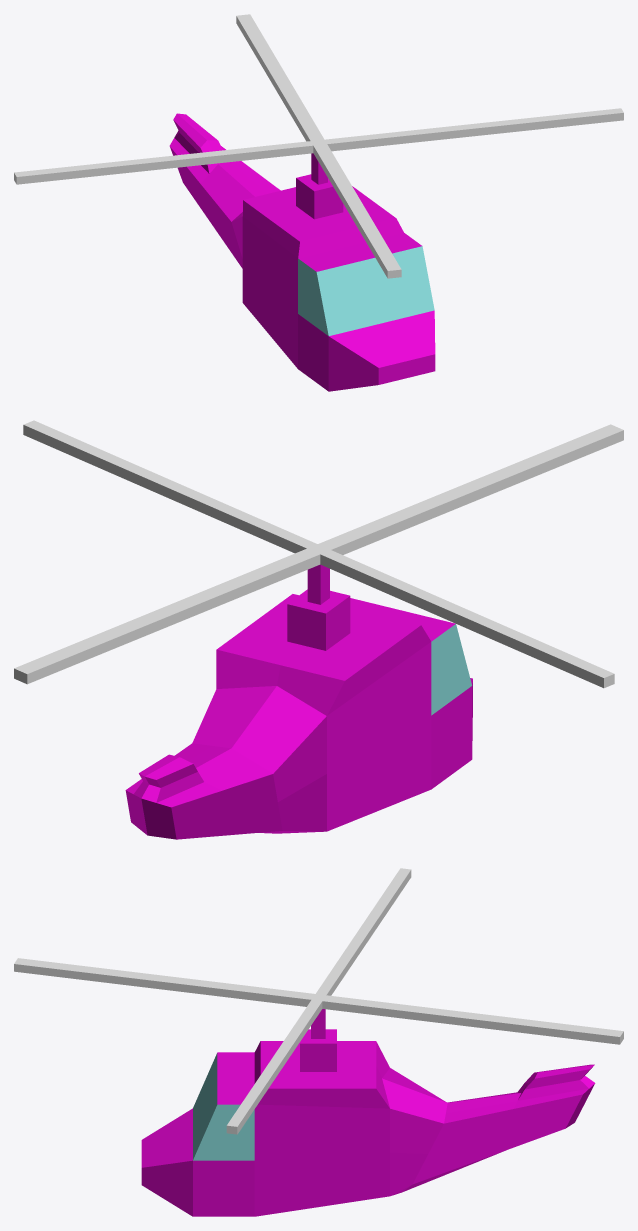
Rendered from lameheli.fbx.
3 renders of one model, top to bottom at view 1: azimuth 30°, elevation 25°; view 2: azimuth 150°, elevation 25°; view 3: azimuth 270°, elevation 25°, orthographic. The views are drawn at different scales.
Visible parts, largest first — view 1: Helicopter Body, Blades; view 2: Helicopter Body, Blades; view 3: Helicopter Body, Blades.
Boxes of the visible parts, x1,y1,x2,y2 form: Helicopter Body: (169,113,435,391); Blades: (14,14,623,278); Helicopter Body: (125,564,472,839); Blades: (14,420,623,688); Helicopter Body: (141,1009,595,1216); Blades: (14,868,623,1134).
Bounding box in the file's own units: 989 × 344 × 986.
